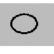no answer: (8, 12, 39, 35)
